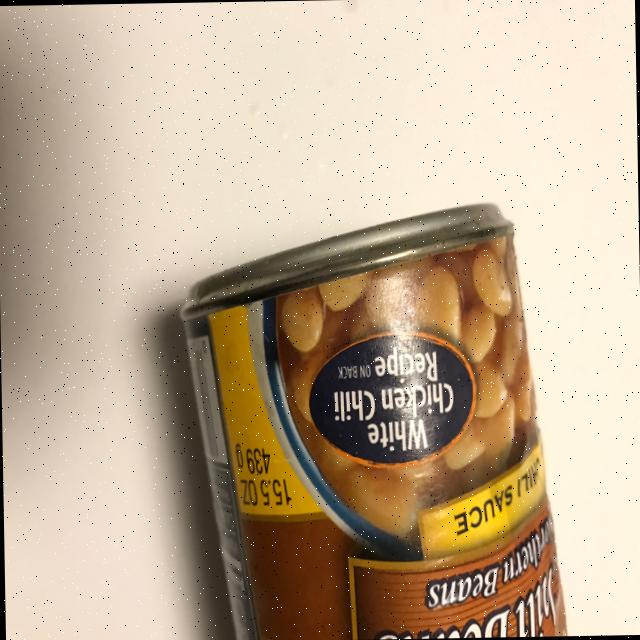metal: (176, 199, 568, 640)
